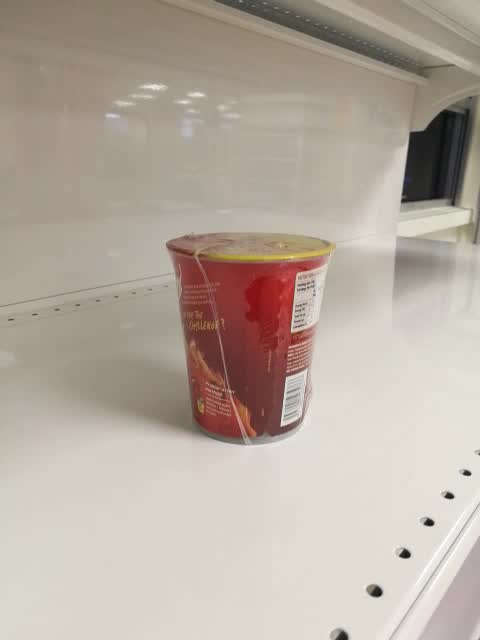maggi: (164, 229, 338, 447)
